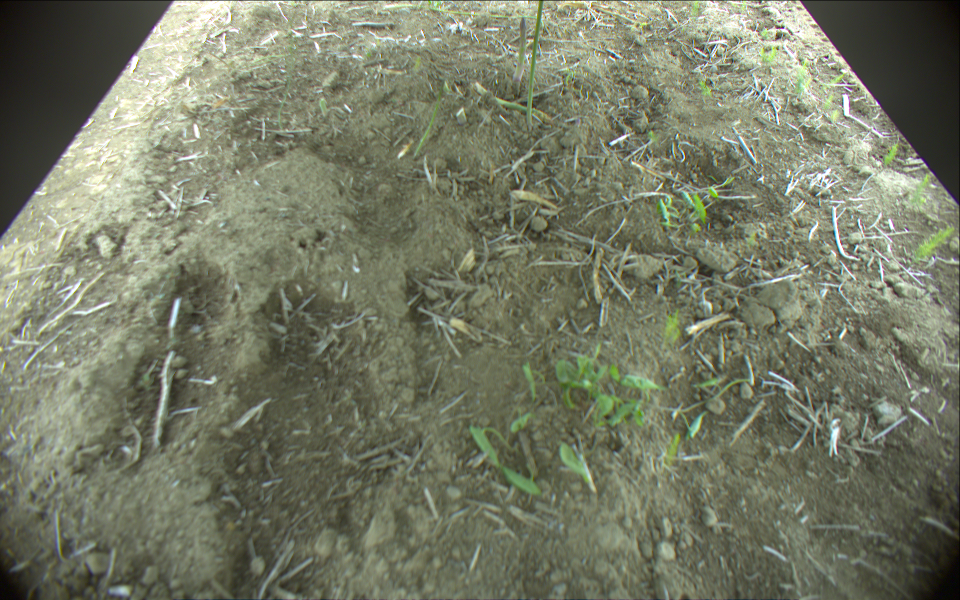aspa: (408, 79, 445, 163), (394, 3, 547, 23), (472, 84, 547, 122), (526, 1, 546, 129), (511, 16, 529, 87)
